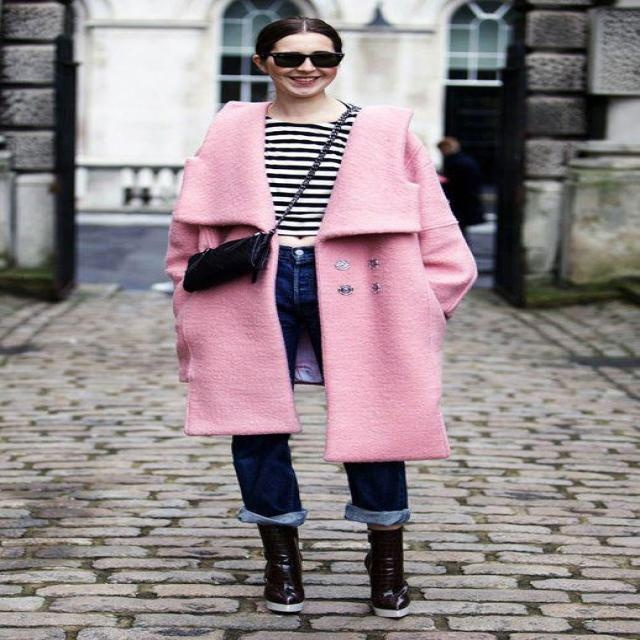obstacle: (153, 13, 472, 634)
